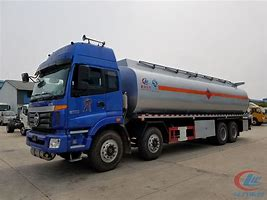oil truck: (21, 36, 254, 167)
